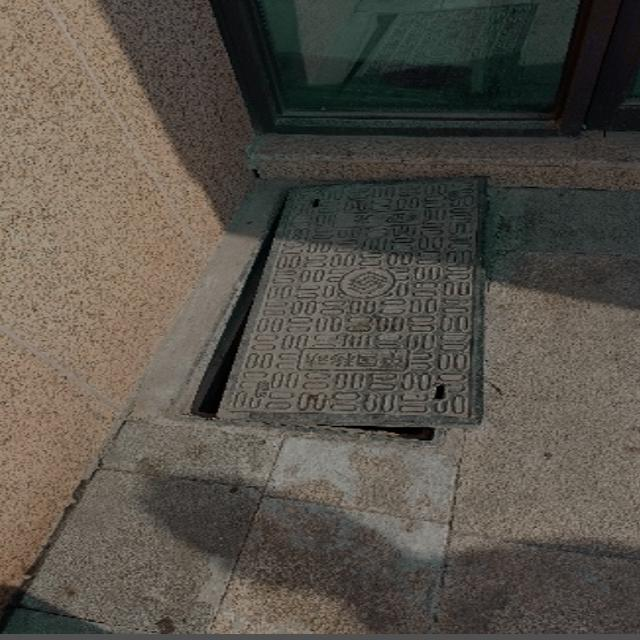uncovered: (167, 171, 483, 445)
